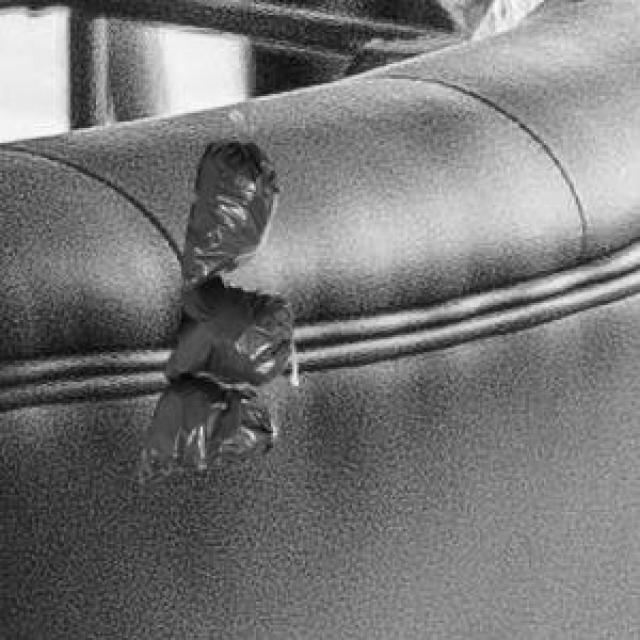miscellaneous trash: (134, 137, 294, 478)
